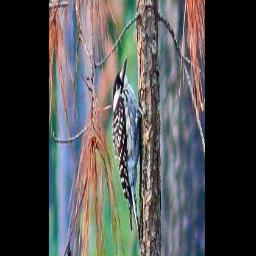Woodpecker: (107, 48, 151, 253)
